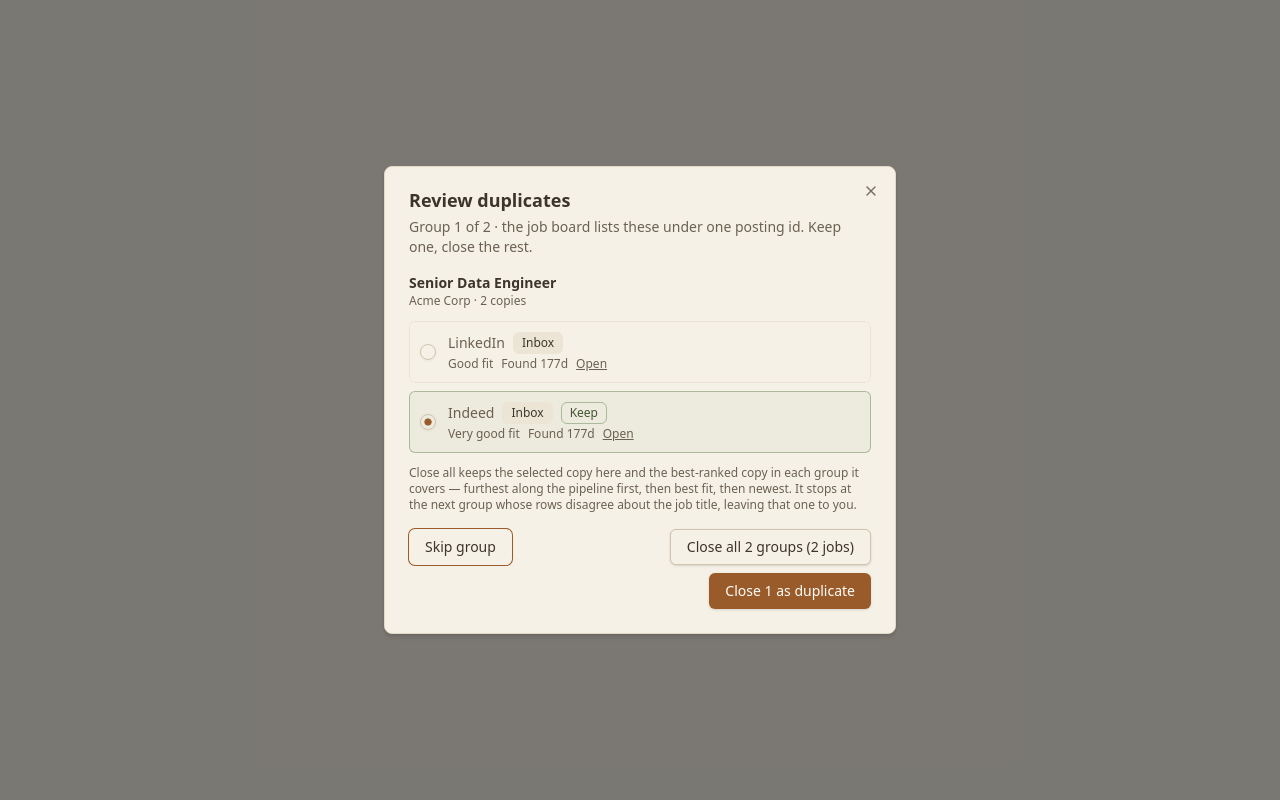
Test case: DuplicateReviewModal › close all › closes every remaining group's losers in one action
The image size is (1280, 800).
Click the button "Close all 2 groups (2 jobs)": (770, 547) [670,529,871,565]
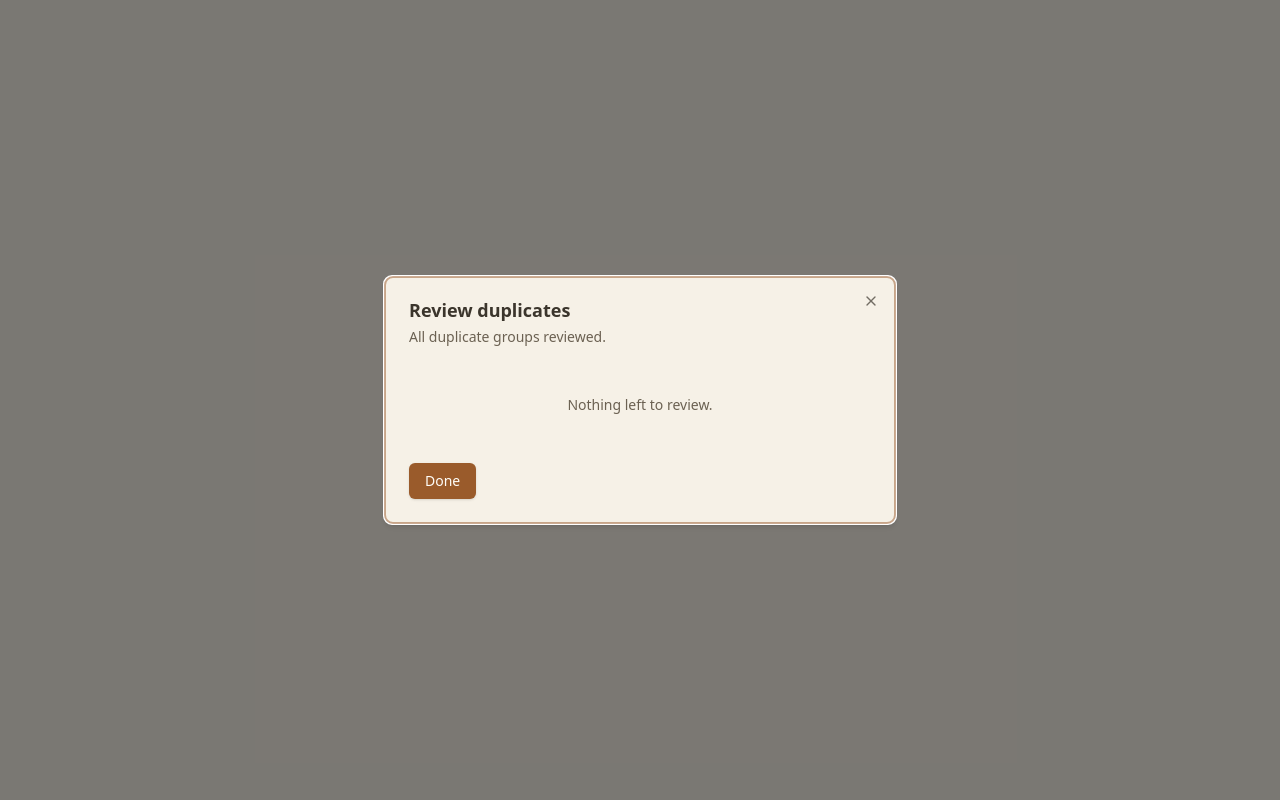
Check: the text "Nothing left to review." is shown, box [567,395,713,414]
